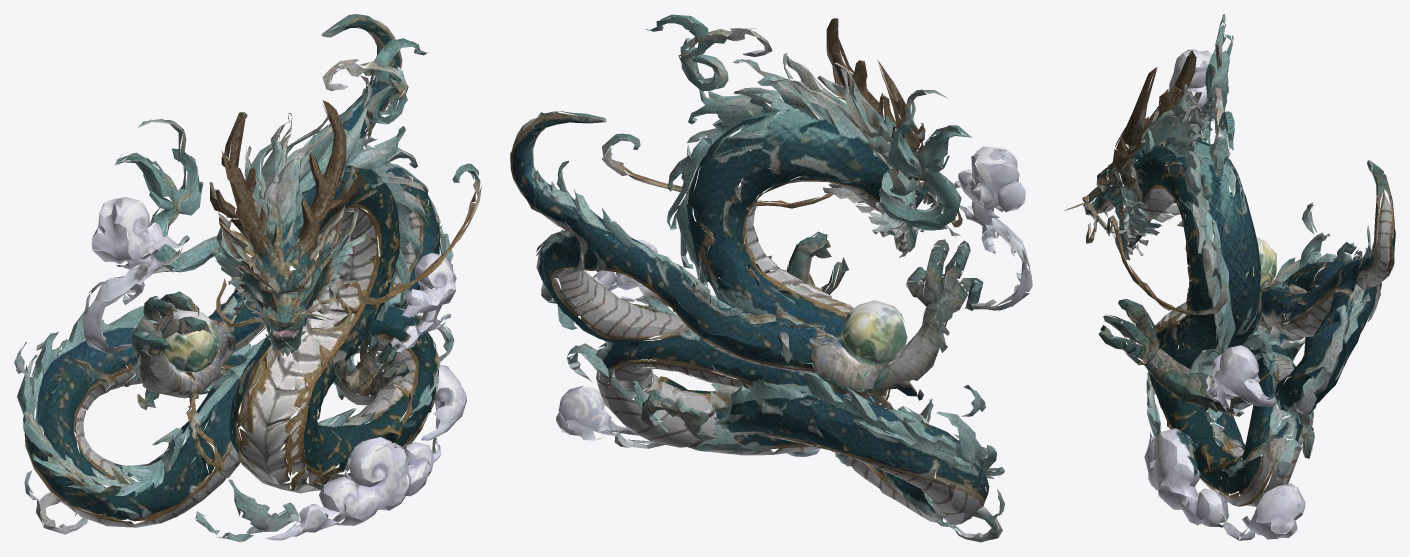
Rendered from boss_dragon_lite.glb.
3 renders of one model, left to right at view 1: azimuth 30°, elevation 25°; view 2: azimuth 150°, elevation 25°; view 3: azimuth 270°, elevation 25°, orthographic. The views are drawn at different scales.
Parts seen in each view (by area): view 1: geometry_0; view 2: geometry_0; view 3: geometry_0.
Part boxes in pixels (left/top/right/bottom): geometry_0: left=14, top=14, right=481, bottom=542; geometry_0: left=510, top=14, right=1032, bottom=542; geometry_0: left=1064, top=14, right=1395, bottom=540.
Bounding box in the file's own units: 1.9 × 1.82 × 1.34.
Materials: 1 (1 with a texture image).
